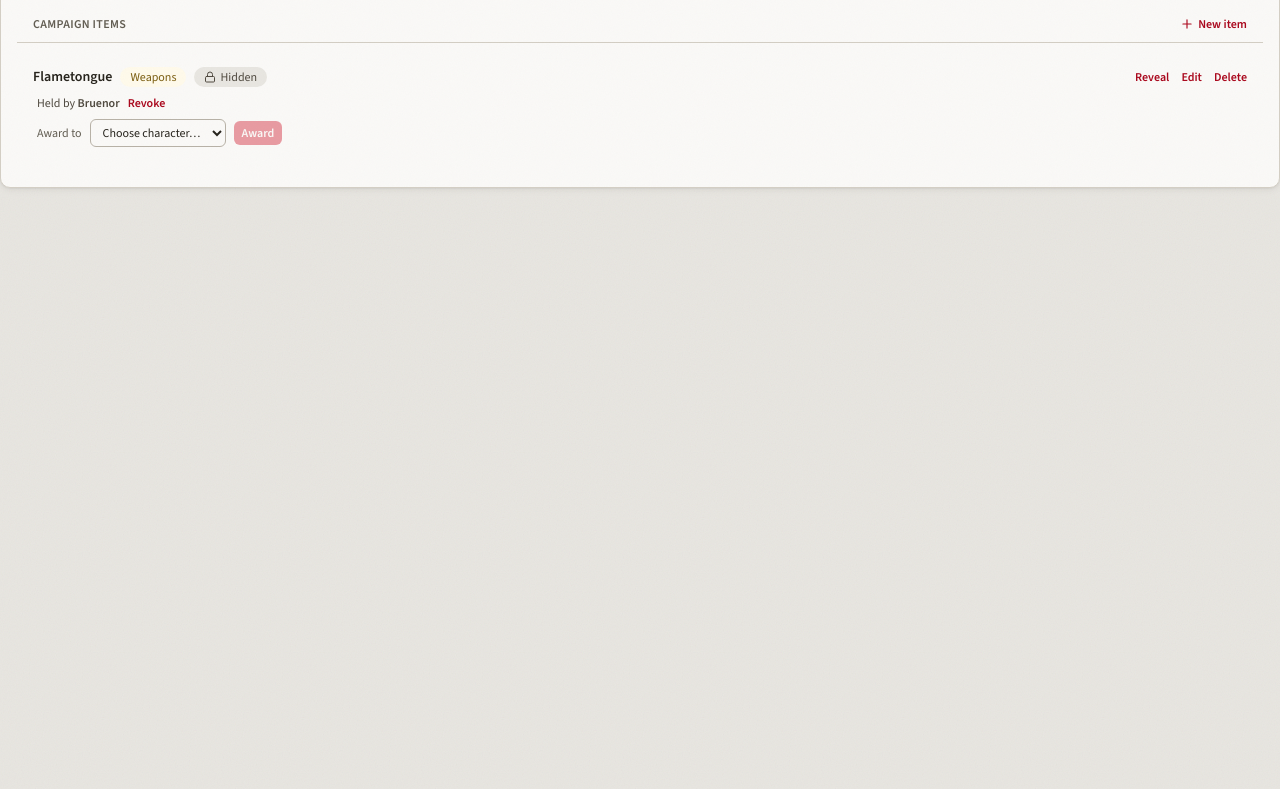
Scenario: CampaignItemsPanel edit (#505) › keeps existing holders after an edit whose response omits them
The width and height of the screenshot is (1280, 789).
Check: the text "Held by Bruenor" is shown, box left=37, top=95, right=120, bottom=111
What coordinates should you click on to do the following:
click the button "Edit"
I would click on:
 (1192, 77)
Its box is left=1181, top=69, right=1202, bottom=85.
(page scrolled)
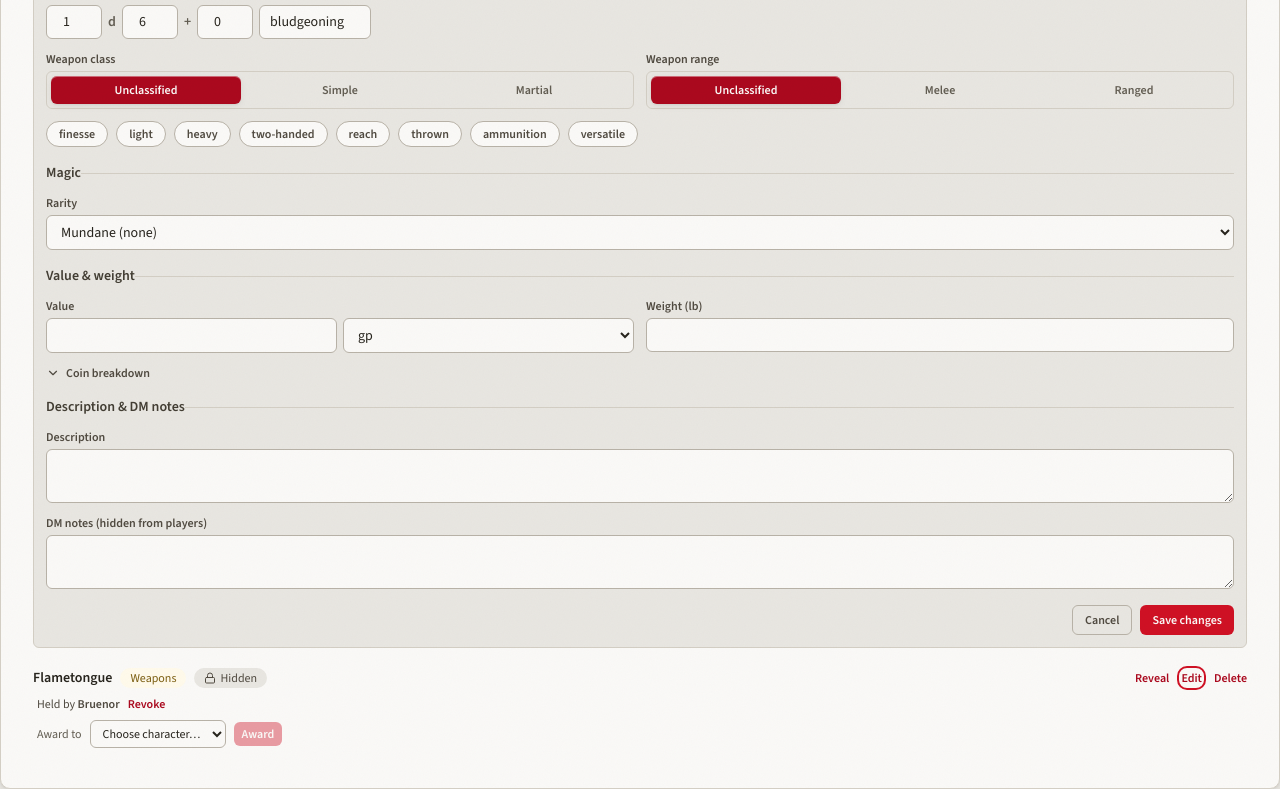
What coordinates should you click on to do the following:
click the button "Save changes"
I would click on:
 (1187, 620)
Its box is left=1140, top=605, right=1234, bottom=635.
(page scrolled)
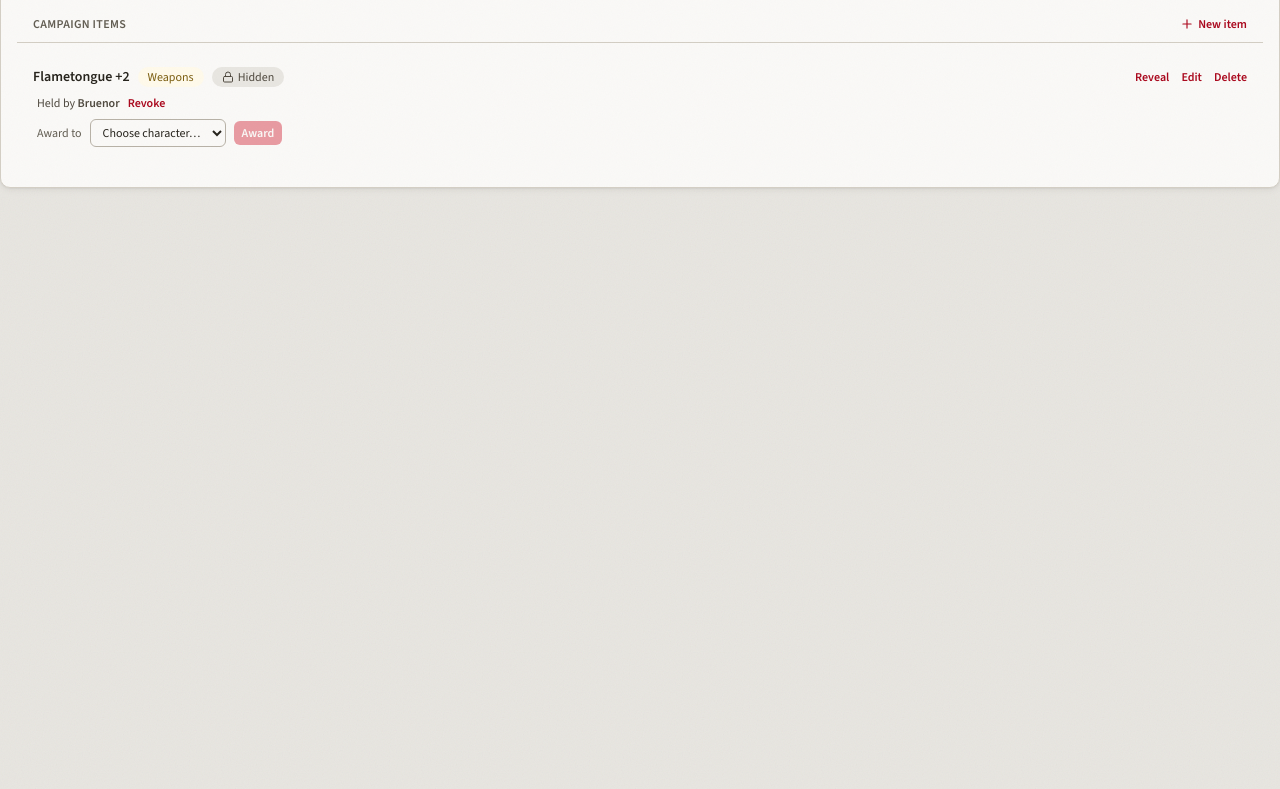
Check: the text "Held by Bruenor" is shown, box left=37, top=95, right=120, bottom=111
Check: the link "Flametongue +2" is shown, box left=33, top=67, right=130, bottom=87
